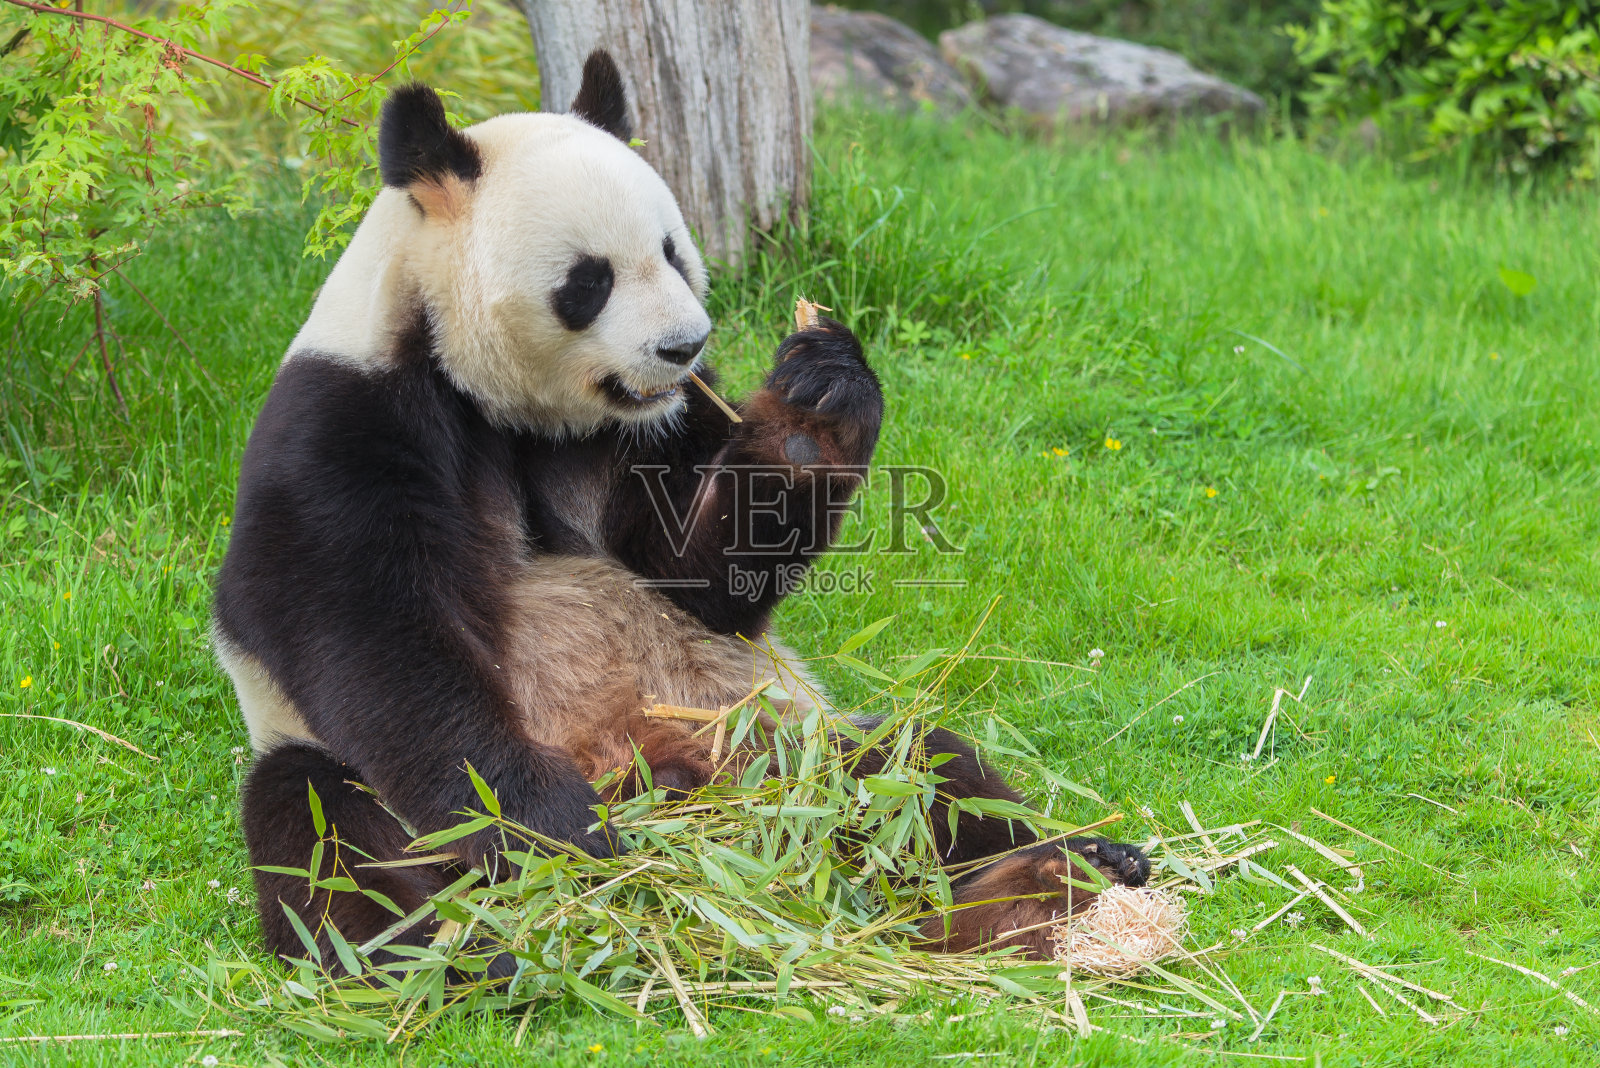panda: (231, 51, 1138, 1036)
